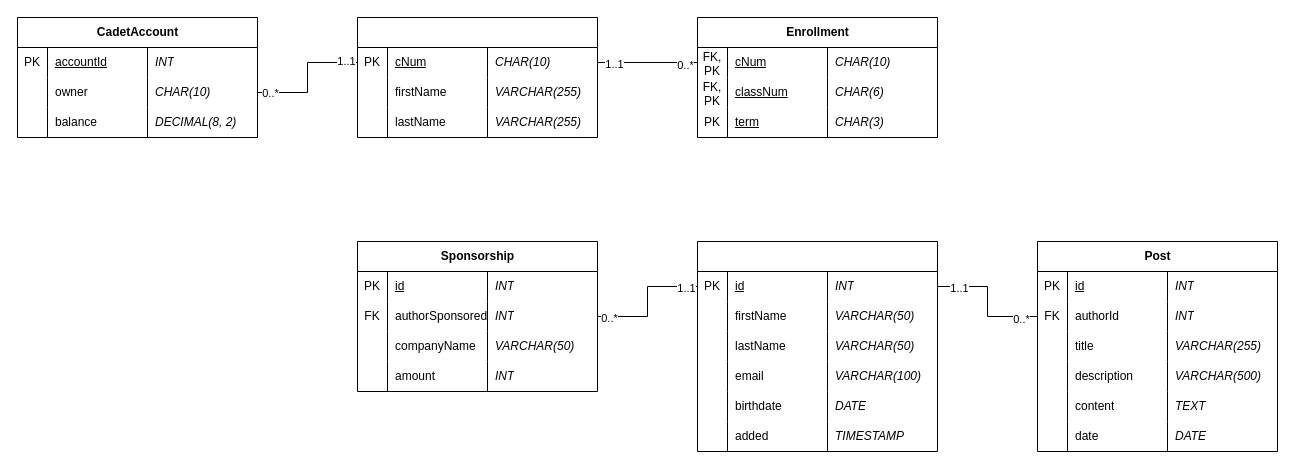
Some shapes in this 1295 by 469 pixel diagram are drawn without their labels. The shapes that lost their labels are listed below. From the top down, each one's box as (x1, y1, x2, y2) in pixels, then its label:
(356, 16, 598, 138): Cadet
(696, 240, 938, 452): Author
